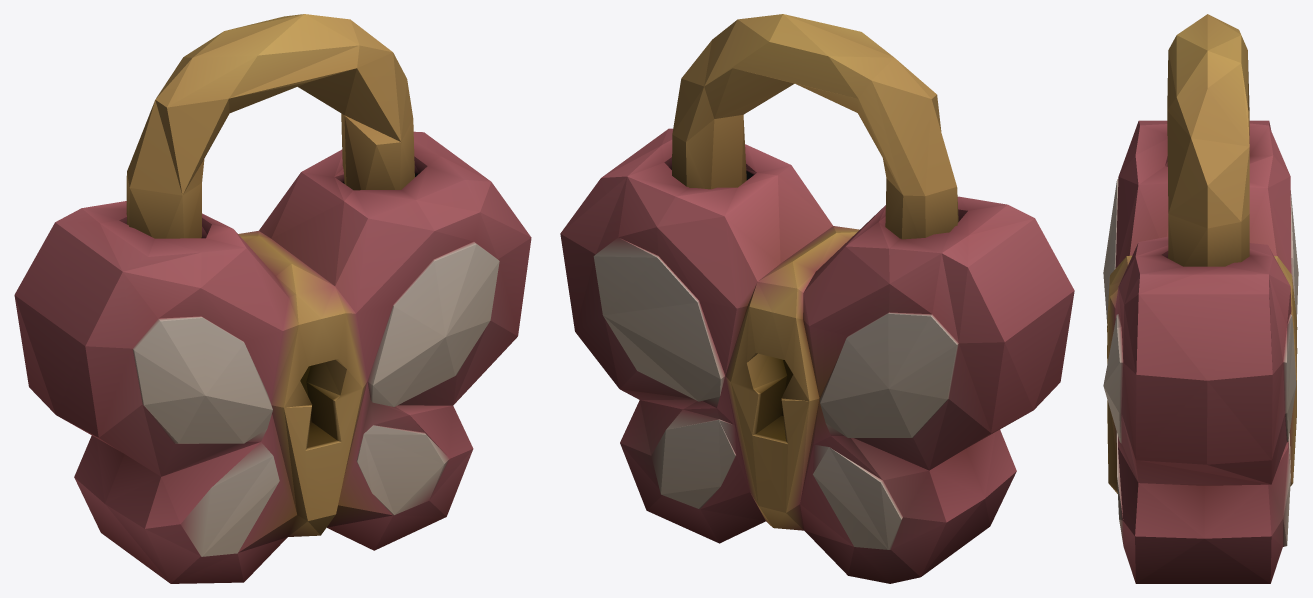
Rendered from lock_06_lod1.glb.
3 renders of one model, left to right at view 1: azimuth 30°, elevation 25°; view 2: azimuth 150°, elevation 25°; view 3: azimuth 270°, elevation 25°, orthographic. The views are drawn at different scales.
Visible parts, largest first — view 1: geometry_0; view 2: geometry_0; view 3: geometry_0.
Boxes of the visible parts, bbox=[...] form: geometry_0: bbox=[14, 14, 531, 583]; geometry_0: bbox=[560, 14, 1074, 583]; geometry_0: bbox=[1103, 14, 1298, 583].
Size of the model in its own units: 0.8653 by 0.9434 by 0.3345.
